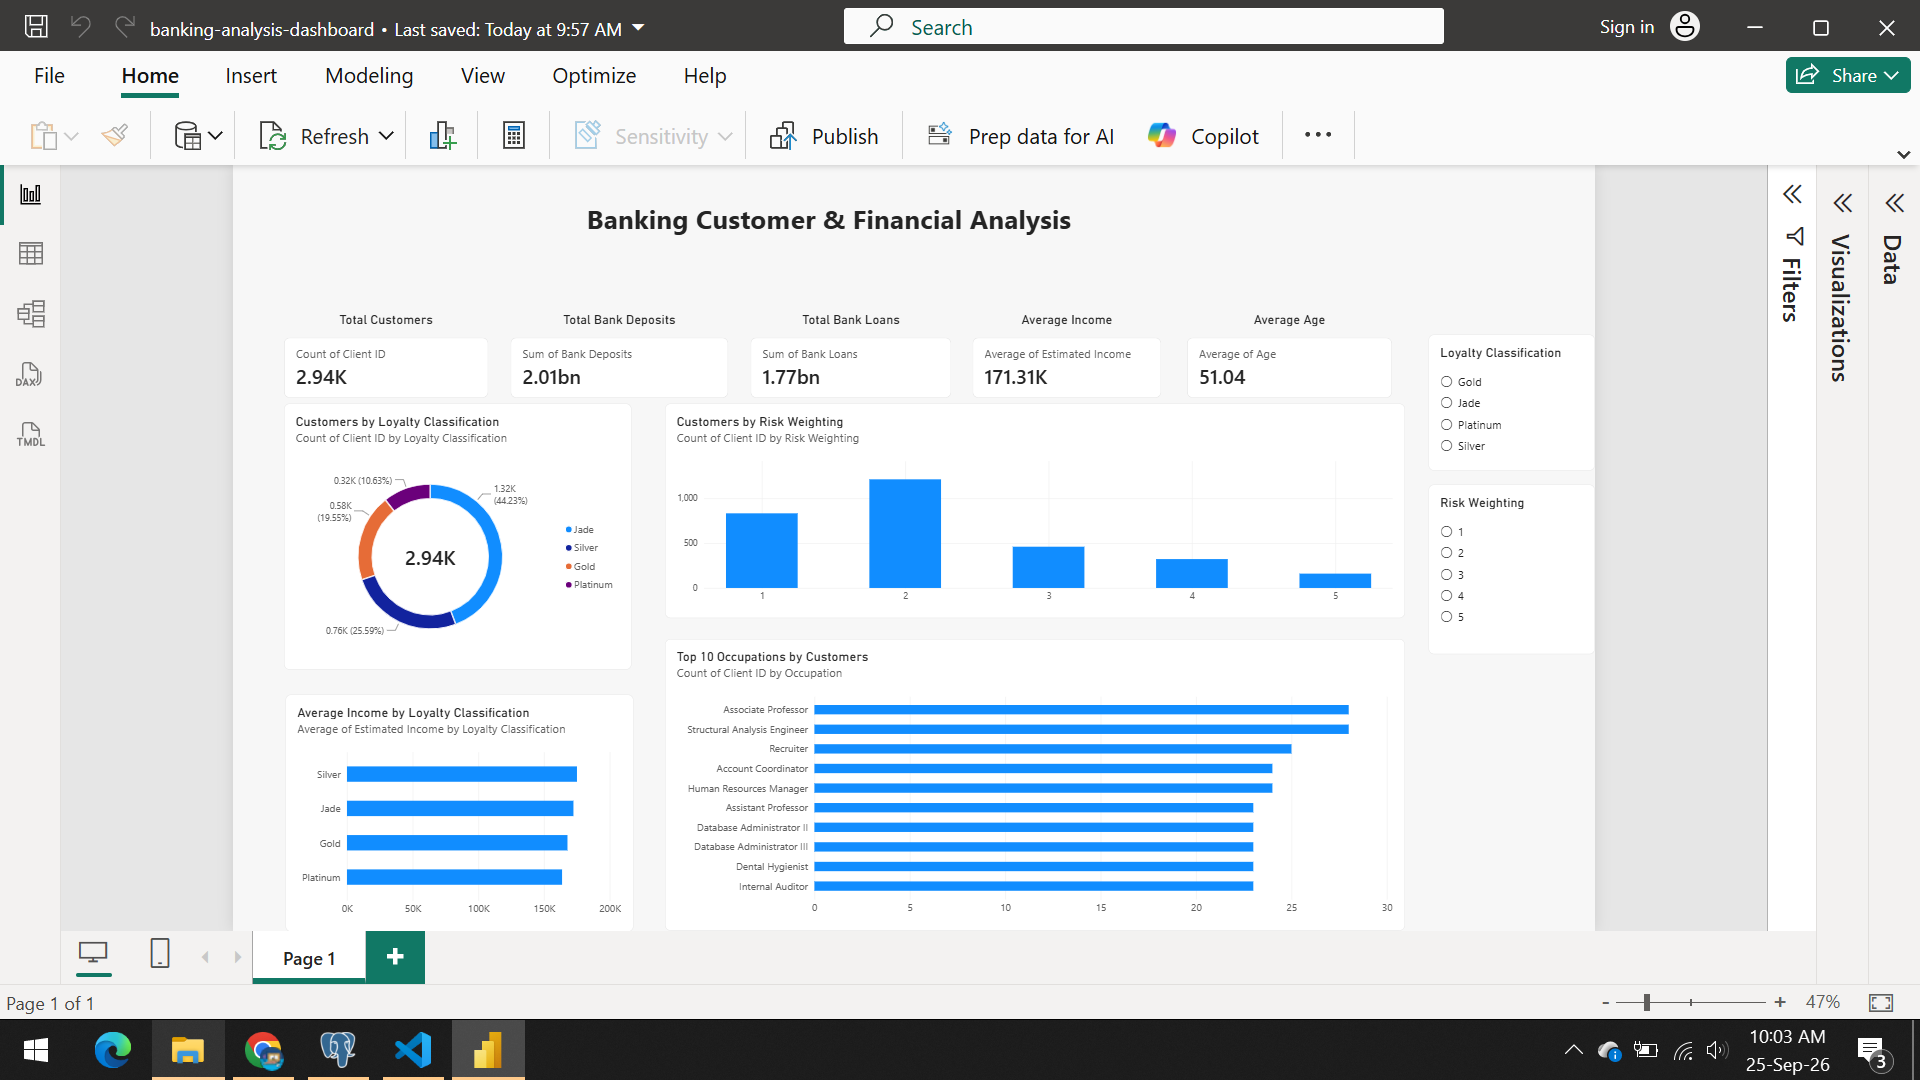

This screenshot's page, from the dashboard's own definition file:
{"tool":"powerbi","page":{"name":"Page 1","canvas":[1920,1080],"ordinal":0},"visuals":[{"type":"cardVisual","title":"Total Customers","fields":{"Data":["Count(Banking_cleaned.Client ID)"]},"box":[72.7,206.3,288.4,121.9],"z":0},{"type":"cardVisual","title":"Total Bank Deposits","fields":{"Data":["Sum(Banking_cleaned.Bank Deposits)"]},"box":[391.5,206.3,307.1,121.9],"z":1},{"type":"cardVisual","title":"Total Bank Loans","fields":{"Data":["Sum(Banking_cleaned.Bank Loans)"]},"box":[729.1,206.3,283.7,121.9],"z":2},{"type":"cardVisual","title":"Average Income","fields":{"Data":["Avg(Banking_cleaned.Estimated Income)"]},"box":[1043.3,206.3,266.5,121.9],"z":3},{"type":"cardVisual","title":"Average Age","fields":{"Data":["Avg(Banking_cleaned.Age)"]},"box":[1345.7,206.3,289.1,121.9],"z":4},{"type":"donutChart","title":"Customers by Loyalty Classification","fields":{"Category":["Banking_cleaned.Loyalty Classification"],"Y":["Count(Banking_cleaned.Client ID)"]},"box":[72.7,335.3,490,375.1],"z":5},{"type":"clusteredColumnChart","title":"Customers by Risk Weighting","fields":{"Category":["Banking_cleaned.Risk Weighting"],"Y":["Count(Banking_cleaned.Client ID)"]},"box":[609.6,335.3,1043.3,302.4],"z":6},{"type":"clusteredBarChart","title":"Average Income by Loyalty Classification","fields":{"Category":["Banking_cleaned.Loyalty Classification"],"Y":["Avg(Banking_cleaned.Estimated Income)"]},"box":[73.7,745.5,490.4,334.5],"z":7},{"type":"clusteredBarChart","title":"Top 10 Occupations by Customers","fields":{"Category":["Banking_cleaned.Occupation"],"Y":["Count(Banking_cleaned.Client ID)"]},"box":[609.5,669,1043.2,411],"z":8},{"type":"textbox","box":[77.4,51.6,1523.9,58.6],"z":9},{"type":"listSlicer","fields":{"Values":["Banking_cleaned.Loyalty Classification"]},"box":[1685.7,239.1,234.4,192.2],"z":10},{"type":"listSlicer","fields":{"Values":["Banking_cleaned.Risk Weighting"]},"box":[1685.7,450.1,234.4,239.1],"z":11}]}

Visuals, with their boxes on the page's 1920x1080 design canvas (x1, y1, x2, y2). These are canvas units, not pixel positions in the 1920x1080 screenshot, which may show the page scaled, cropped or inside an application window:
"Total Customers" cardVisual: [left=73, top=206, right=361, bottom=328]
"Total Bank Deposits" cardVisual: [left=392, top=206, right=699, bottom=328]
"Total Bank Loans" cardVisual: [left=729, top=206, right=1013, bottom=328]
"Average Income" cardVisual: [left=1043, top=206, right=1310, bottom=328]
"Average Age" cardVisual: [left=1346, top=206, right=1635, bottom=328]
"Customers by Loyalty Classification" donutChart: [left=73, top=335, right=563, bottom=710]
"Customers by Risk Weighting" clusteredColumnChart: [left=610, top=335, right=1653, bottom=638]
"Average Income by Loyalty Classification" clusteredBarChart: [left=74, top=746, right=564, bottom=1080]
"Top 10 Occupations by Customers" clusteredBarChart: [left=610, top=669, right=1653, bottom=1080]
textbox: [left=77, top=52, right=1601, bottom=110]
listSlicer - Banking_cleaned.Loyalty Classification: [left=1686, top=239, right=1920, bottom=431]
listSlicer - Banking_cleaned.Risk Weighting: [left=1686, top=450, right=1920, bottom=689]
